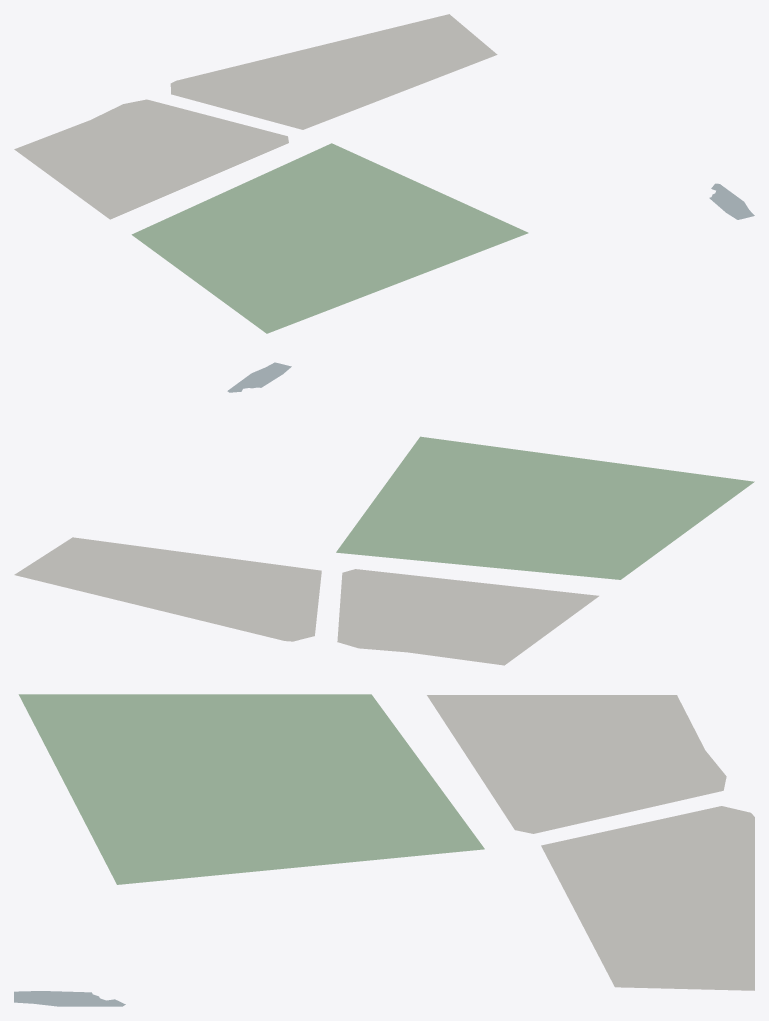
The model's file is 96_114_mid.glb.
The picture shows the model from 3 angles, top to bottom: view 1: azimuth 30°, elevation 25°; view 2: azimuth 150°, elevation 25°; view 3: azimuth 270°, elevation 25°; orthographic projection. The views are drawn at different scales.
Bounding box in the file's own units: 500 × 1.21 × 500.
